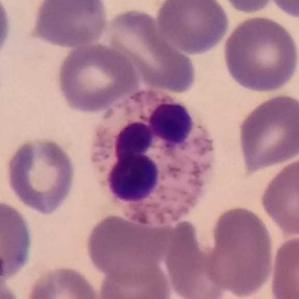Neutrophil: (83, 83, 224, 235)
RBC: (102, 7, 198, 94), (202, 203, 276, 298), (220, 14, 299, 94), (55, 41, 141, 114), (2, 135, 78, 216), (82, 211, 168, 282), (161, 218, 227, 299), (235, 92, 299, 174), (154, 0, 231, 55), (28, 0, 110, 49), (95, 255, 174, 299), (258, 154, 299, 238), (0, 196, 36, 282), (24, 263, 104, 299), (267, 234, 299, 299), (212, 0, 282, 15), (0, 0, 14, 64), (0, 261, 22, 298), (266, 0, 299, 21)
